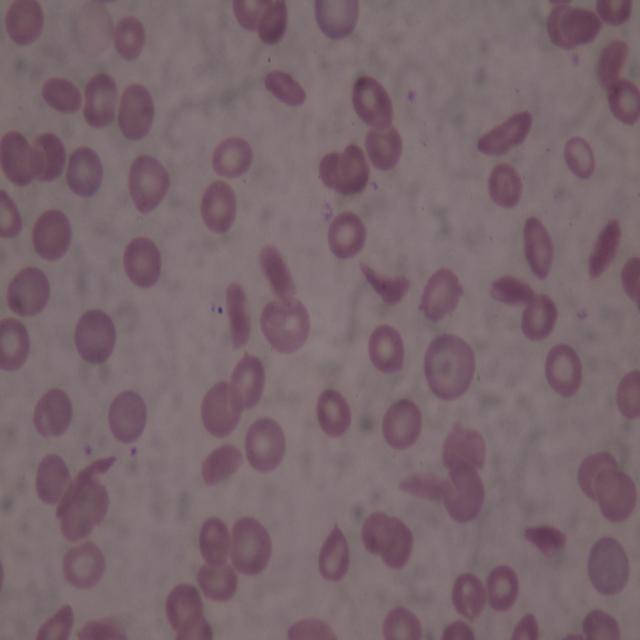Crystal: (474, 106, 534, 157), (258, 242, 298, 310), (223, 279, 254, 354), (588, 214, 624, 278), (198, 438, 245, 486), (597, 34, 631, 91), (526, 211, 554, 280), (261, 67, 307, 108), (522, 519, 566, 560), (489, 274, 538, 307), (36, 603, 76, 640), (560, 10, 603, 40)
Normal: (244, 416, 287, 474), (544, 342, 584, 398), (200, 180, 240, 234), (63, 147, 103, 197), (326, 212, 367, 259), (365, 322, 405, 369), (521, 290, 557, 341), (212, 136, 252, 180), (484, 562, 518, 612), (317, 387, 352, 435), (1, 316, 31, 369), (607, 80, 640, 127), (378, 606, 422, 639), (615, 367, 640, 419)
Others: (56, 482, 115, 538), (257, 300, 311, 354), (584, 536, 628, 600), (128, 152, 172, 214), (441, 417, 487, 476), (444, 465, 489, 523), (349, 74, 395, 130), (592, 464, 636, 522), (197, 381, 243, 436), (228, 515, 270, 575), (419, 267, 462, 324), (310, 0, 359, 46), (74, 308, 114, 363), (82, 71, 119, 130), (316, 522, 351, 584), (547, 3, 589, 54), (121, 236, 163, 286), (32, 208, 72, 260), (32, 386, 72, 438), (1, 130, 38, 186), (118, 82, 155, 138), (62, 542, 106, 589), (382, 396, 421, 449), (578, 448, 620, 497), (108, 388, 142, 445), (8, 268, 50, 313), (562, 133, 598, 185), (38, 76, 83, 117), (230, 355, 266, 406), (487, 162, 523, 212), (192, 563, 238, 602), (364, 124, 403, 170), (4, 1, 43, 46), (381, 521, 415, 572), (34, 455, 70, 503), (33, 131, 66, 183), (337, 144, 369, 196), (166, 582, 201, 629), (452, 575, 488, 620), (113, 16, 147, 63), (197, 516, 231, 563), (580, 608, 626, 640), (256, 0, 289, 43), (230, 0, 270, 30), (0, 186, 22, 239), (78, 618, 136, 638), (509, 610, 544, 640), (362, 508, 388, 548), (286, 616, 338, 636), (621, 253, 639, 303)
Sickle: (54, 454, 121, 514), (356, 255, 412, 309), (397, 468, 458, 506)
Target: (424, 334, 474, 400)
